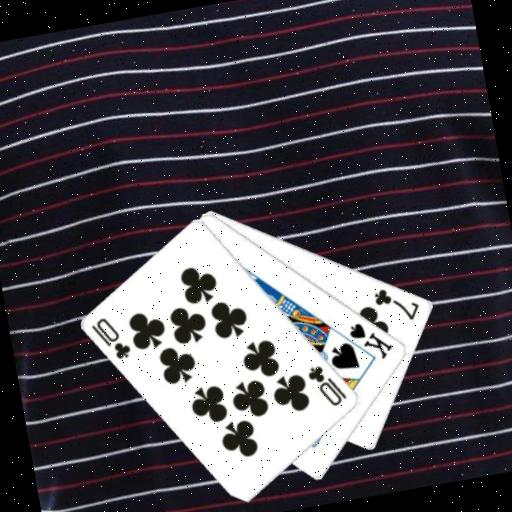10C: (86, 310, 134, 365), (303, 358, 350, 412)
7C: (370, 280, 424, 328)
KS: (344, 314, 396, 366)
